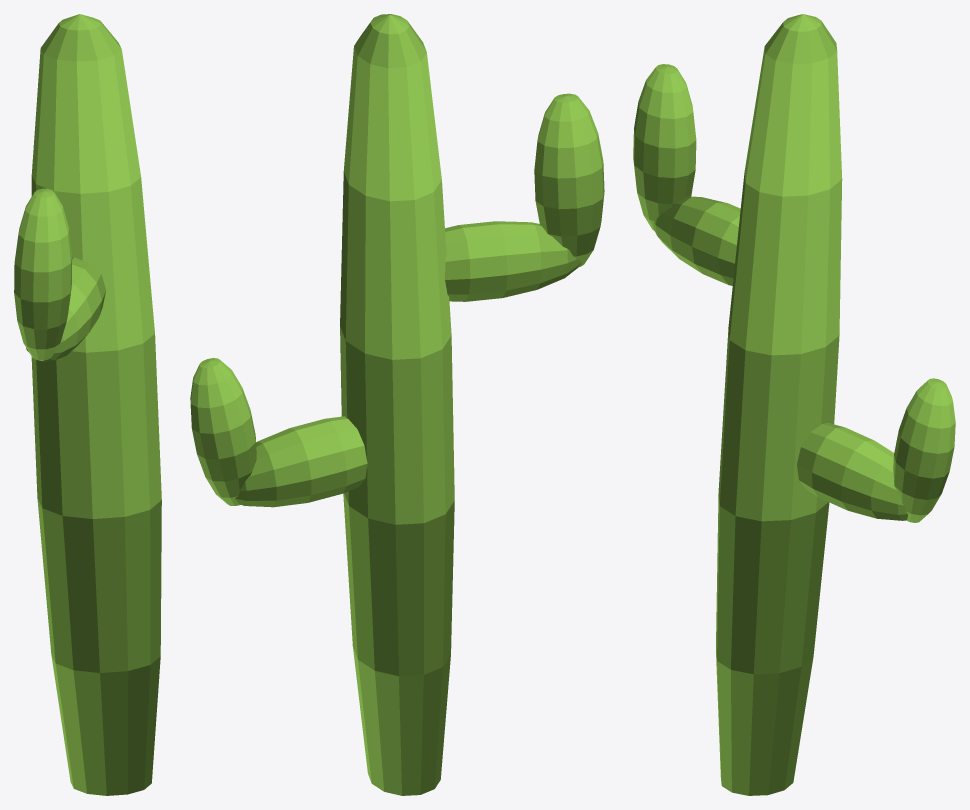
3 renders of one model, left to right at view 1: azimuth 30°, elevation 25°; view 2: azimuth 150°, elevation 25°; view 3: azimuth 270°, elevation 25°, orthographic. The views are drawn at different scales.
Visible parts, largest first — view 1: mesh_809628526, mesh_992772152, mesh_1671986866; view 2: mesh_809628526, mesh_992772152, mesh_399781104, mesh_1671986866, mesh_564167824; view 3: mesh_809628526, mesh_992772152, mesh_399781104, mesh_564167824, mesh_1671986866.
Boxes of the visible parts, <box> form: mesh_809628526: <box>31,14,161,795</box>; mesh_992772152: <box>14,188,72,360</box>; mesh_1671986866: <box>26,257,105,362</box>; mesh_809628526: <box>340,14,454,795</box>; mesh_992772152: <box>534,93,604,267</box>; mesh_399781104: <box>235,416,367,507</box>; mesh_1671986866: <box>445,221,581,301</box>; mesh_564167824: <box>190,358,256,505</box>; mesh_809628526: <box>716,14,842,795</box>; mesh_992772152: <box>633,64,696,230</box>; mesh_399781104: <box>797,423,908,520</box>; mesh_564167824: <box>893,378,955,522</box>; mesh_1671986866: <box>653,196,740,285</box>.
Size of the model in its own units: 67.66 by 190 by 72.66.
